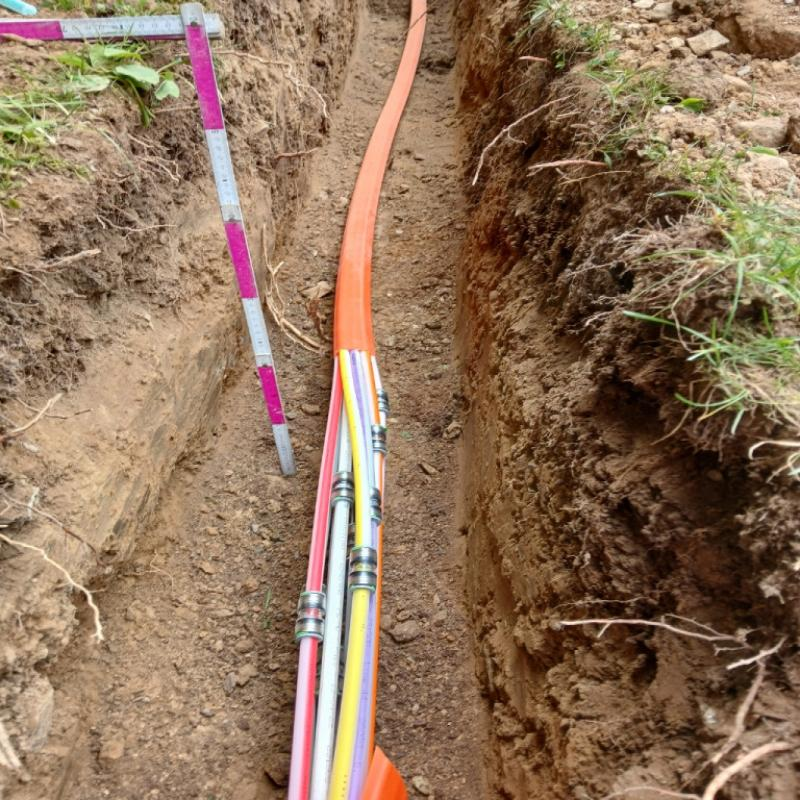Orang-Speednetrohrchen: (323, 6, 424, 446)
